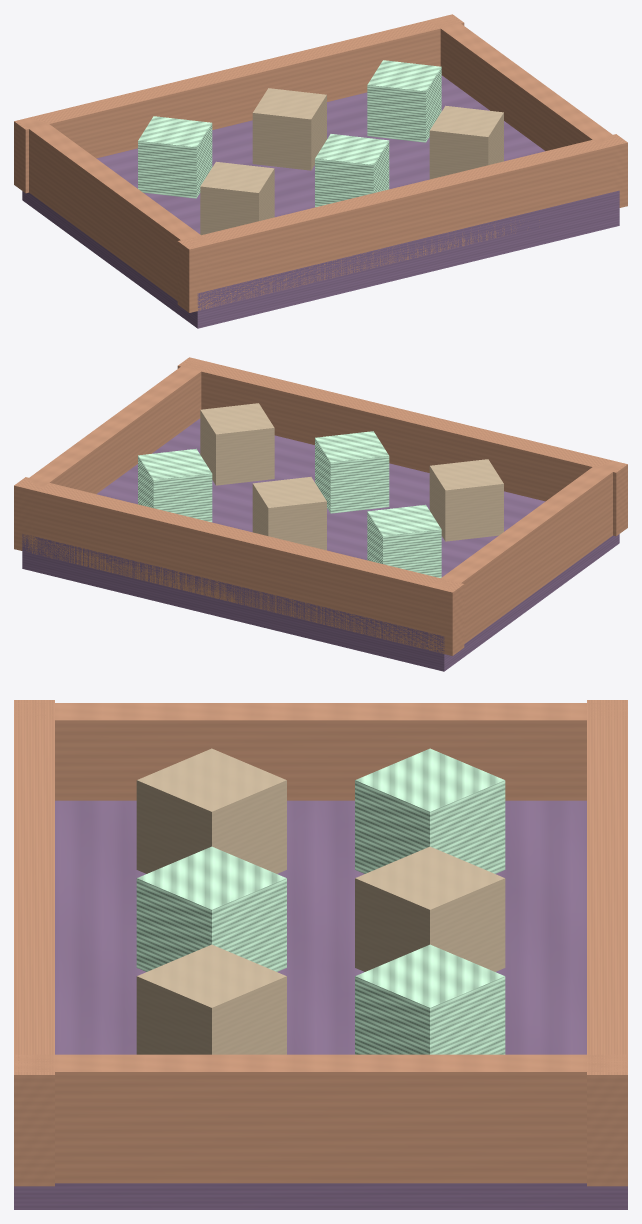
File: atlas100-s087-a04.glb
The picture shows the model from 3 angles, top to bottom: view 1: azimuth 30°, elevation 25°; view 2: azimuth 150°, elevation 25°; view 3: azimuth 270°, elevation 25°; orthographic projection. The views are drawn at different scales.
Parts seen in each view (by area): view 1: atlas100-s087-a04:part-000, atlas100-s087-a04:part-002, atlas100-s087-a04:part-001, atlas100-s087-a04:part-003, atlas100-s087-a04:part-004, atlas100-s087-a04:part-007, atlas100-s087-a04:part-006, atlas100-s087-a04:part-005, atlas100-s087-a04:part-009, atlas100-s087-a04:part-010, atlas100-s087-a04:part-008; view 2: atlas100-s087-a04:part-001, atlas100-s087-a04:part-000, atlas100-s087-a04:part-002, atlas100-s087-a04:part-003, atlas100-s087-a04:part-004, atlas100-s087-a04:part-010, atlas100-s087-a04:part-009, atlas100-s087-a04:part-008, atlas100-s087-a04:part-006, atlas100-s087-a04:part-007, atlas100-s087-a04:part-005; view 3: atlas100-s087-a04:part-000, atlas100-s087-a04:part-004, atlas100-s087-a04:part-003, atlas100-s087-a04:part-001, atlas100-s087-a04:part-002, atlas100-s087-a04:part-005, atlas100-s087-a04:part-008, atlas100-s087-a04:part-006, atlas100-s087-a04:part-009, atlas100-s087-a04:part-007, atlas100-s087-a04:part-010.
Part boxes in pixels (left/top/right/bottom): atlas100-s087-a04:part-000: left=22, top=75, right=619, bottom=328; atlas100-s087-a04:part-002: left=177, top=134, right=627, bottom=312; atlas100-s087-a04:part-001: left=14, top=14, right=464, bottom=193; atlas100-s087-a04:part-003: left=17, top=118, right=212, bottom=311; atlas100-s087-a04:part-004: left=430, top=15, right=624, bottom=207; atlas100-s087-a04:part-007: left=367, top=60, right=441, bottom=142; atlas100-s087-a04:part-006: left=252, top=88, right=326, bottom=170; atlas100-s087-a04:part-005: left=138, top=116, right=212, bottom=198; atlas100-s087-a04:part-009: left=315, top=134, right=389, bottom=207; atlas100-s087-a04:part-010: left=429, top=105, right=503, bottom=179; atlas100-s087-a04:part-008: left=200, top=161, right=274, bottom=235; atlas100-s087-a04:part-001: left=14, top=477, right=464, bottom=655; atlas100-s087-a04:part-000: left=22, top=418, right=619, bottom=671; atlas100-s087-a04:part-002: left=177, top=357, right=627, bottom=536; atlas100-s087-a04:part-003: left=429, top=461, right=624, bottom=652; atlas100-s087-a04:part-004: left=17, top=358, right=211, bottom=554; atlas100-s087-a04:part-010: left=200, top=403, right=274, bottom=485; atlas100-s087-a04:part-009: left=315, top=431, right=389, bottom=513; atlas100-s087-a04:part-008: left=429, top=459, right=503, bottom=541; atlas100-s087-a04:part-006: left=252, top=477, right=326, bottom=550; atlas100-s087-a04:part-007: left=138, top=448, right=212, bottom=522; atlas100-s087-a04:part-005: left=367, top=504, right=441, bottom=578; atlas100-s087-a04:part-000: left=14, top=800, right=627, bottom=1209; atlas100-s087-a04:part-004: left=14, top=1054, right=627, bottom=1183; atlas100-s087-a04:part-003: left=14, top=703, right=627, bottom=800; atlas100-s087-a04:part-001: left=587, top=700, right=627, bottom=1186; atlas100-s087-a04:part-002: left=14, top=700, right=54, bottom=1186; atlas100-s087-a04:part-005: left=355, top=748, right=505, bottom=873; atlas100-s087-a04:part-008: left=136, top=748, right=286, bottom=873; atlas100-s087-a04:part-006: left=355, top=846, right=505, bottom=971; atlas100-s087-a04:part-009: left=136, top=846, right=286, bottom=971; atlas100-s087-a04:part-007: left=355, top=944, right=505, bottom=1054; atlas100-s087-a04:part-010: left=136, top=944, right=286, bottom=1054.
Bounding box in the file's own units: 1.39 × 0.2619 × 0.9621.
Materials: 4 (4 with a texture image).
